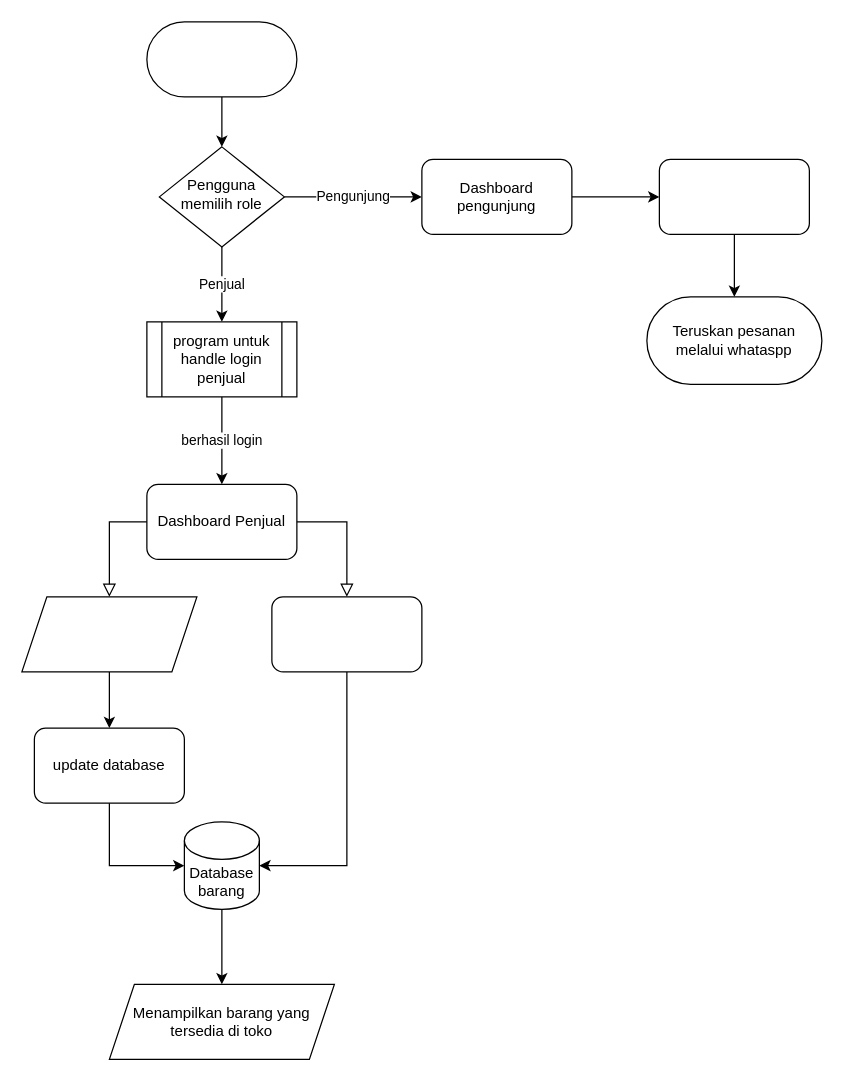
Image size: 844x1081. Some labels were removed from this diagram. The shapes that lost their labels are listed below. From the top down, each one's centre as x and y in pixels, then its label:
(x=221, y=59): Mulai
(x=733, y=196): Pengunjung memilih barang yang akan di beli
(x=109, y=634): Tambah/edit/hapus barang
(x=346, y=634): Lihat barang di toko
